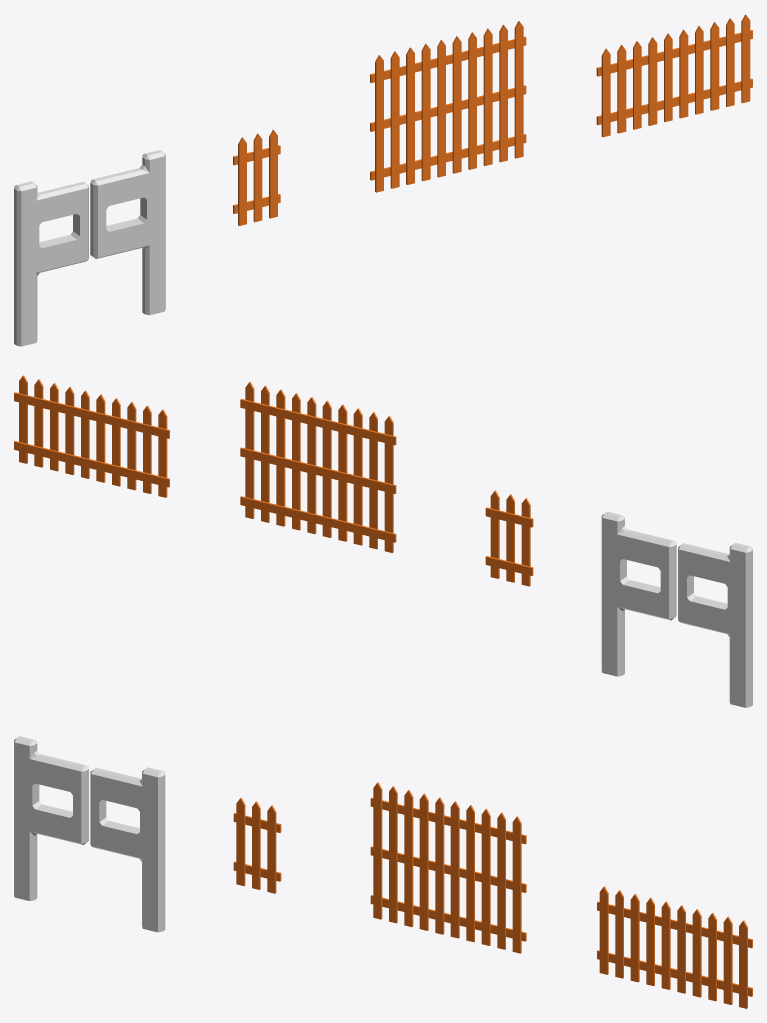
File: AssetsVallas.fbx
The picture shows the model from 3 angles, top to bottom: view 1: azimuth 30°, elevation 25°; view 2: azimuth 150°, elevation 25°; view 3: azimuth 330°, elevation 25°; orthographic projection.
Visible parts, largest first — view 1: valla_alta, Valla, minipuerta_der_low, Object001, valla_pequeña; view 2: valla_alta, Valla, minipuerta_der_low, Object001, valla_pequeña; view 3: valla_alta, Valla, minipuerta_der_low, Object001, valla_pequeña.
Boxes of the visible parts, bbox=[...] form: valla_alta: bbox=[370, 21, 526, 192]; Valla: bbox=[596, 14, 752, 137]; minipuerta_der_low: bbox=[90, 150, 165, 315]; Object001: bbox=[14, 181, 88, 346]; valla_pequeña: bbox=[233, 130, 280, 225]; valla_alta: bbox=[240, 381, 396, 552]; Valla: bbox=[14, 375, 169, 497]; minipuerta_der_low: bbox=[601, 511, 676, 676]; Object001: bbox=[678, 543, 752, 707]; valla_pequeña: bbox=[485, 490, 533, 586]; valla_alta: bbox=[370, 782, 526, 953]; Valla: bbox=[597, 886, 752, 1008]; minipuerta_der_low: bbox=[90, 767, 165, 932]; Object001: bbox=[14, 736, 88, 900]; valla_pequeña: bbox=[233, 797, 281, 893].
Size of the model in its own units: 944 by 246 by 15.14.
